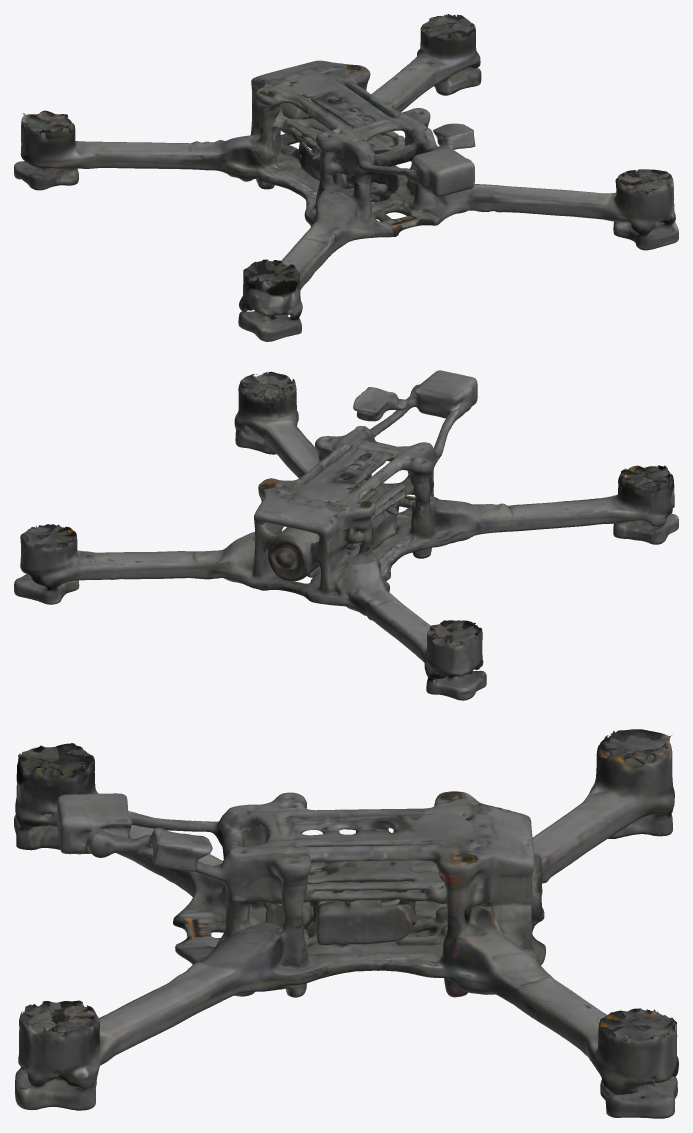
Rendered from drone4.glb.
The picture shows the model from 3 angles, top to bottom: view 1: azimuth 30°, elevation 25°; view 2: azimuth 150°, elevation 25°; view 3: azimuth 270°, elevation 25°; orthographic projection. The views are drawn at different scales.
Visible parts, largest first — view 1: Mesh_0; view 2: Mesh_0; view 3: Mesh_0.
Boxes of the visible parts, <box> form: Mesh_0: <box>14,14,678,341</box>; Mesh_0: <box>14,370,678,700</box>; Mesh_0: <box>14,729,678,1118</box>.
Size of the model in its own units: 1.42 by 0.3468 by 1.29.
Materials: 1 (1 with a texture image).
